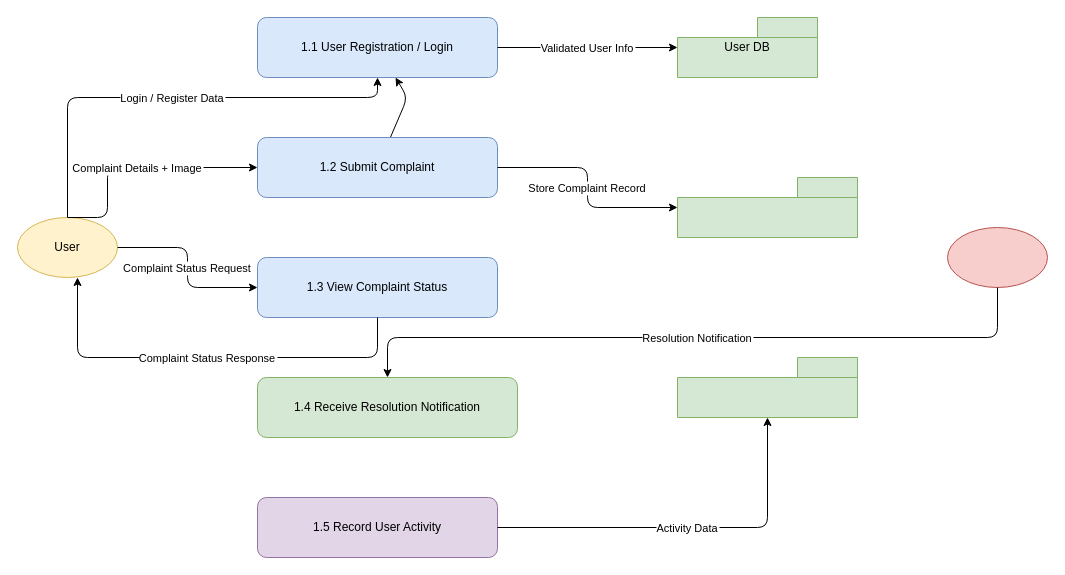
Some shapes in this 1065 by 575 pixel diagram are drawn without their labels. Here are the shapes that lost their labels. From the top down, the centre of each, then its label:
(767,207): UserComplaints DB
(997,257): Admin
(767,387): UserActivity Log
